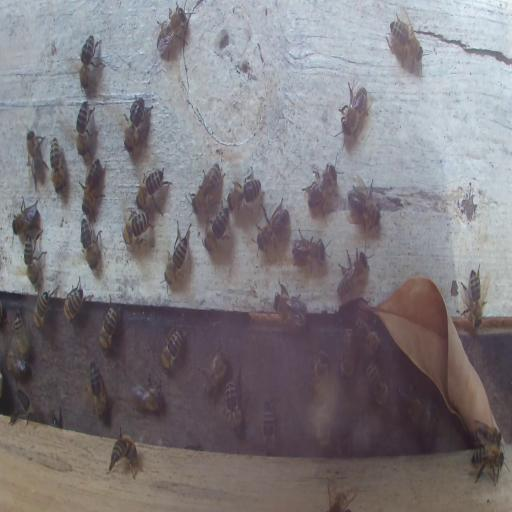bee: (386, 8, 424, 72), (337, 78, 373, 140), (346, 176, 382, 234), (164, 218, 193, 287), (460, 264, 488, 330), (336, 247, 369, 302), (156, 5, 190, 58), (137, 165, 172, 215), (256, 198, 288, 252), (78, 34, 106, 92), (199, 340, 228, 396), (471, 442, 507, 487), (301, 163, 334, 212), (191, 164, 224, 213), (276, 278, 307, 330), (122, 95, 149, 154), (391, 383, 423, 432), (107, 432, 140, 479), (78, 162, 105, 219), (291, 230, 329, 268), (86, 358, 108, 423), (228, 172, 262, 214), (204, 204, 231, 256), (24, 232, 46, 289), (25, 129, 46, 188), (98, 297, 120, 353), (354, 314, 382, 358), (80, 214, 101, 272), (132, 372, 162, 412), (63, 275, 87, 324), (12, 196, 40, 238), (122, 210, 152, 247), (160, 325, 184, 371), (312, 344, 328, 406), (366, 360, 388, 405), (224, 378, 242, 433), (49, 136, 65, 192), (339, 326, 355, 381), (12, 389, 34, 424), (33, 288, 51, 330), (4, 352, 30, 380), (472, 422, 502, 445), (14, 308, 28, 356), (263, 403, 275, 452)
